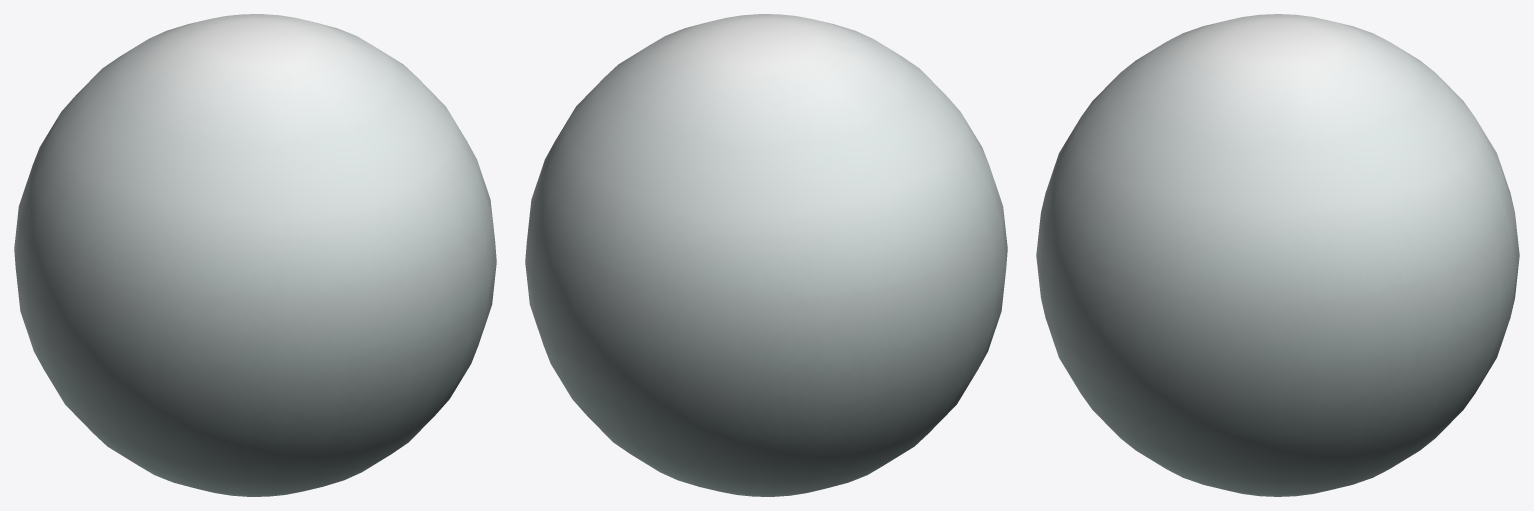
Rendered from fishgameenvironment.fbx.
3 renders of one model, left to right at view 1: azimuth 30°, elevation 25°; view 2: azimuth 150°, elevation 25°; view 3: azimuth 270°, elevation 25°, orthographic.
Parts seen in each view (by area): view 1: Sphere; view 2: Sphere; view 3: Sphere.
Boxes of the visible parts, x1=… form: Sphere: x1=14, y1=14, x2=496, y2=496; Sphere: x1=525, y1=14, x2=1007, y2=496; Sphere: x1=1036, y1=14, x2=1519, y2=496.
Size of the model in its own units: 37.93 by 37.93 by 37.93.
